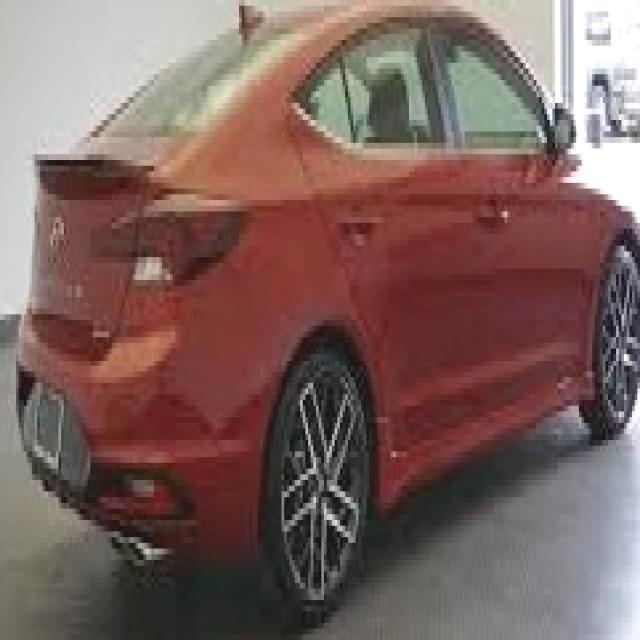maroon: (25, 1, 640, 534)
